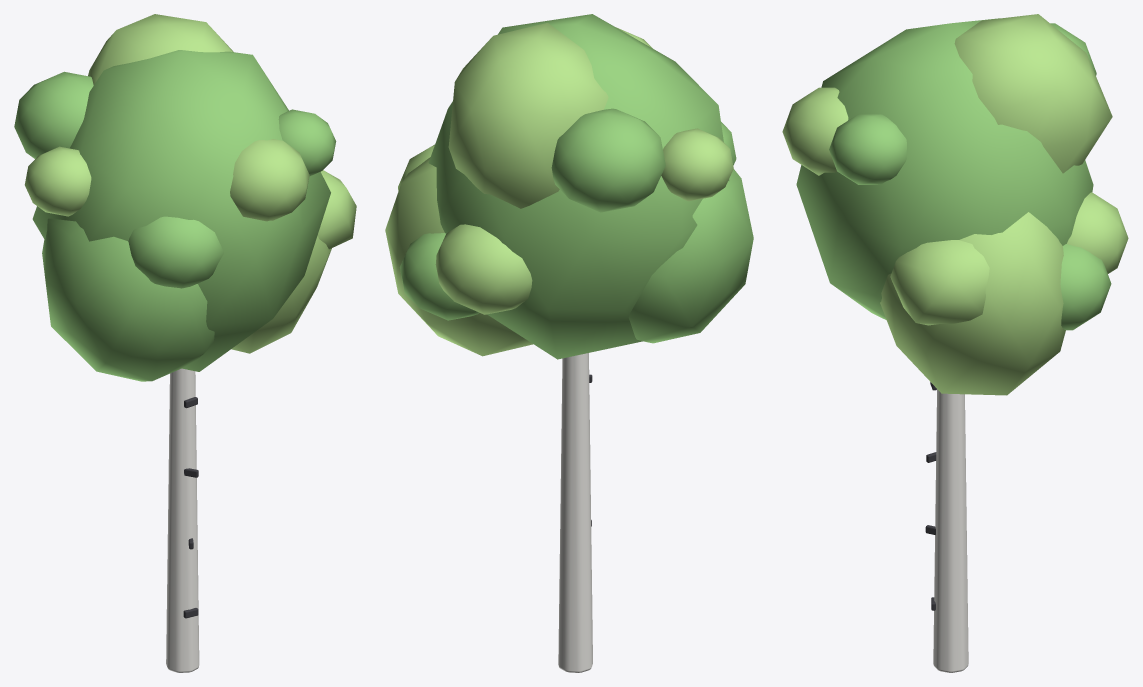
File: tree_birch.fbx
3 renders of one model, left to right at view 1: azimuth 30°, elevation 25°; view 2: azimuth 150°, elevation 25°; view 3: azimuth 270°, elevation 25°, orthographic. The views are drawn at different scales.
Visible parts, largest first — view 1: Visual; view 2: Visual; view 3: Visual.
Boxes of the visible parts, box(x1,y1,x2,y2) form: Visual: box(14, 14, 356, 672); Visual: box(385, 14, 753, 672); Visual: box(782, 14, 1128, 672).
Size of what is drawn, in the model's own units: 327 by 618 by 299.
